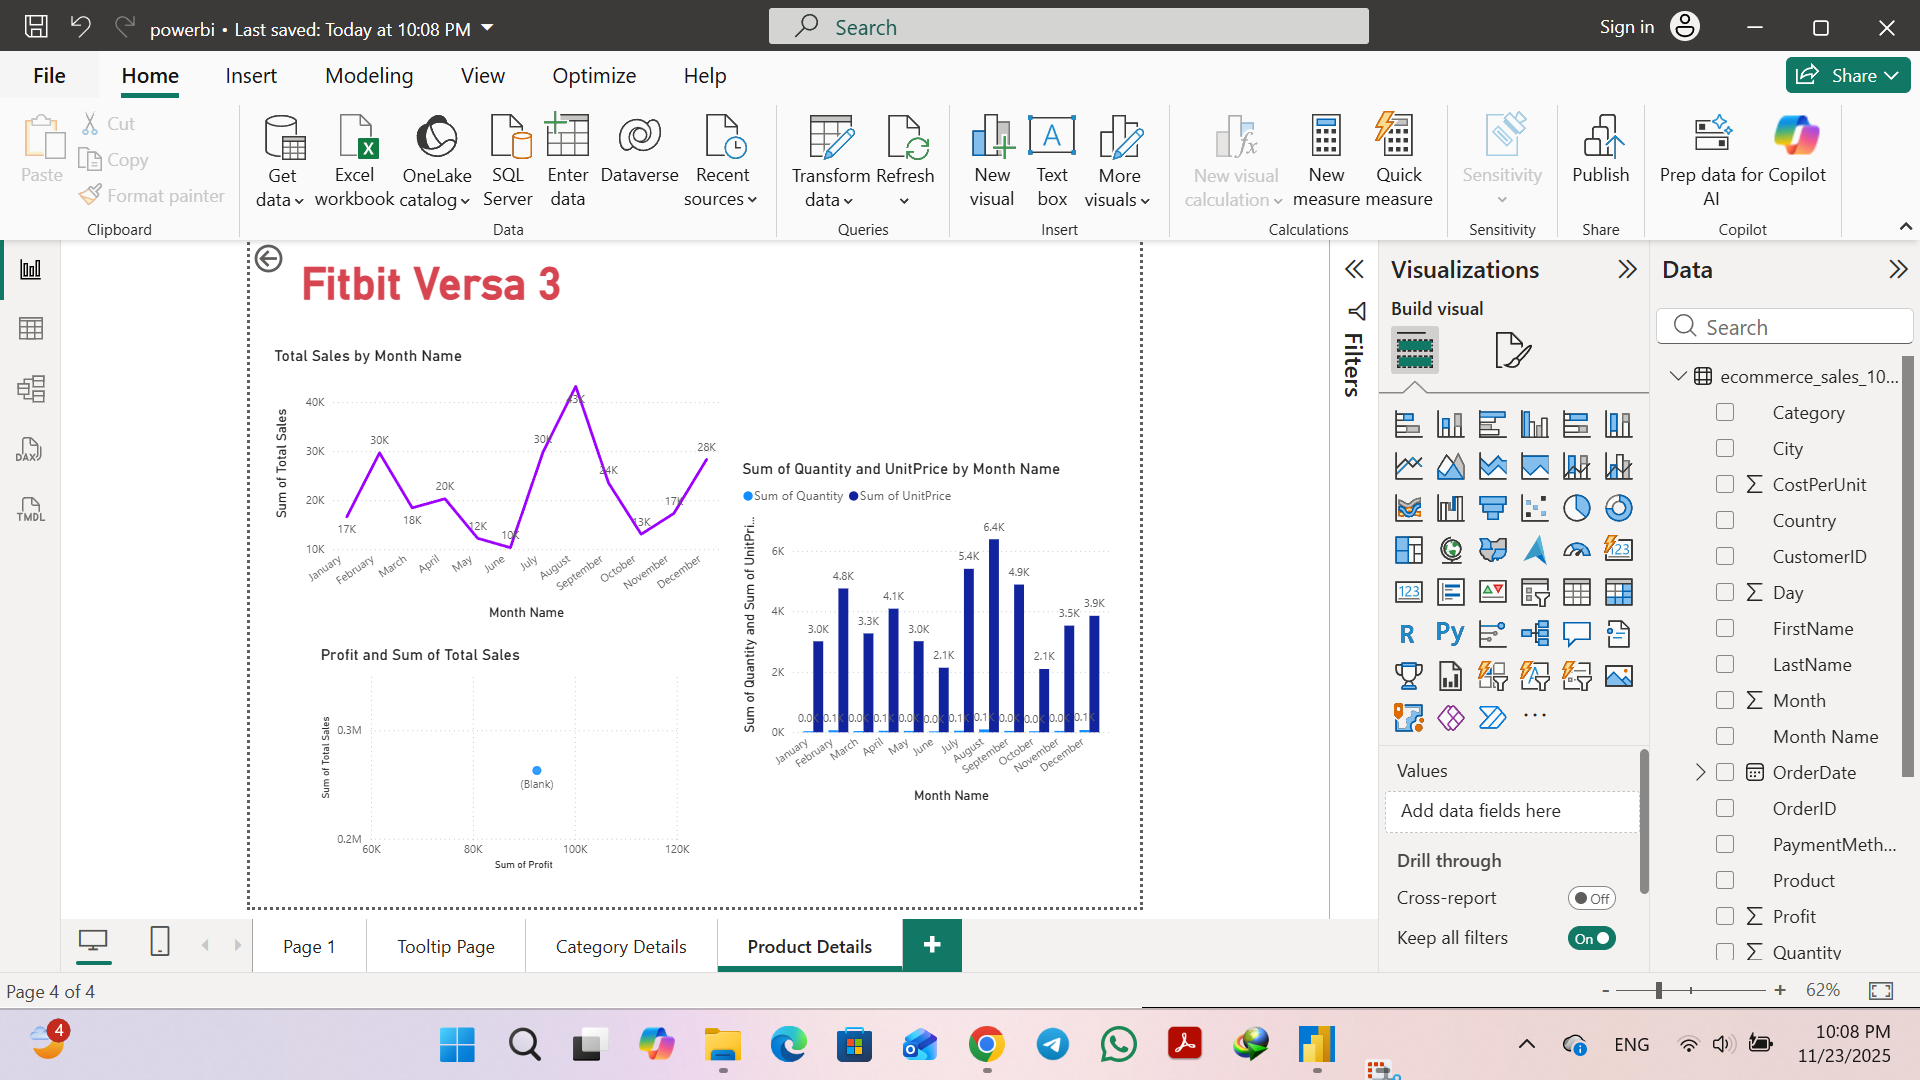

Layout of this report page (visuals, bound fields, positions):
{"tool":"powerbi","page":{"name":"Product Details","canvas":[960,720],"ordinal":3},"visuals":[{"type":"actionButton","box":[0,0,100,40],"z":0},{"type":"lineChart","title":"Total Sales by Month Name","fields":{"Category":["ecommerce_sales_10000rows.Month Name"],"Y":["Sum(ecommerce_sales_10000rows.Total Sales)"]},"box":[21,115,490.6,299.6],"z":1000},{"type":"scatterChart","title":" Profit and Sum of Total Sales","fields":{"X":["Sum(ecommerce_sales_10000rows.Profit)"],"Y":["Sum(ecommerce_sales_10000rows.Total Sales)"]},"box":[71.2,437.2,408,247.7],"z":2000},{"type":"clusteredColumnChart","title":"Sum of Quantity and UnitPrice by Month Name","fields":{"Category":["ecommerce_sales_10000rows.Month Name"],"Y":["Sum(ecommerce_sales_10000rows.Quantity)","Sum(ecommerce_sales_10000rows.UnitPrice)"]},"box":[526.2,236.4,406.4,375.7],"z":3000},{"type":"textbox","box":[50.2,19.4,406.4,82.6],"z":4000}]}

Visuals, with their boxes on the page's 960x720 design canvas (x1, y1, x2, y2). These are canvas units, not pixel positions in the 1920x1080 screenshot, which may show the page scaled, cropped or inside an application window:
actionButton: (x1=0, y1=0, x2=100, y2=40)
"Total Sales by Month Name" lineChart: (x1=21, y1=115, x2=512, y2=415)
" Profit and Sum of Total Sales" scatterChart: (x1=71, y1=437, x2=479, y2=685)
"Sum of Quantity and UnitPrice by Month Name" clusteredColumnChart: (x1=526, y1=236, x2=933, y2=612)
textbox: (x1=50, y1=19, x2=457, y2=102)
